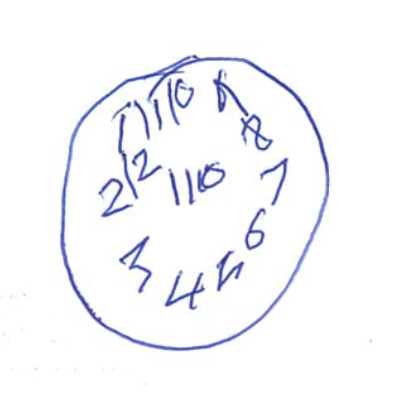11: (113, 99, 150, 152), (152, 80, 180, 135), (166, 166, 196, 207)
12: (121, 146, 163, 201)
2: (96, 179, 134, 219)
3: (113, 236, 155, 295)
4: (164, 267, 205, 313)
5: (213, 249, 246, 292)
6: (244, 206, 268, 252)
7: (255, 156, 292, 206)
8: (240, 112, 275, 154)
9: (207, 72, 247, 116)
contour: (58, 54, 334, 355)
